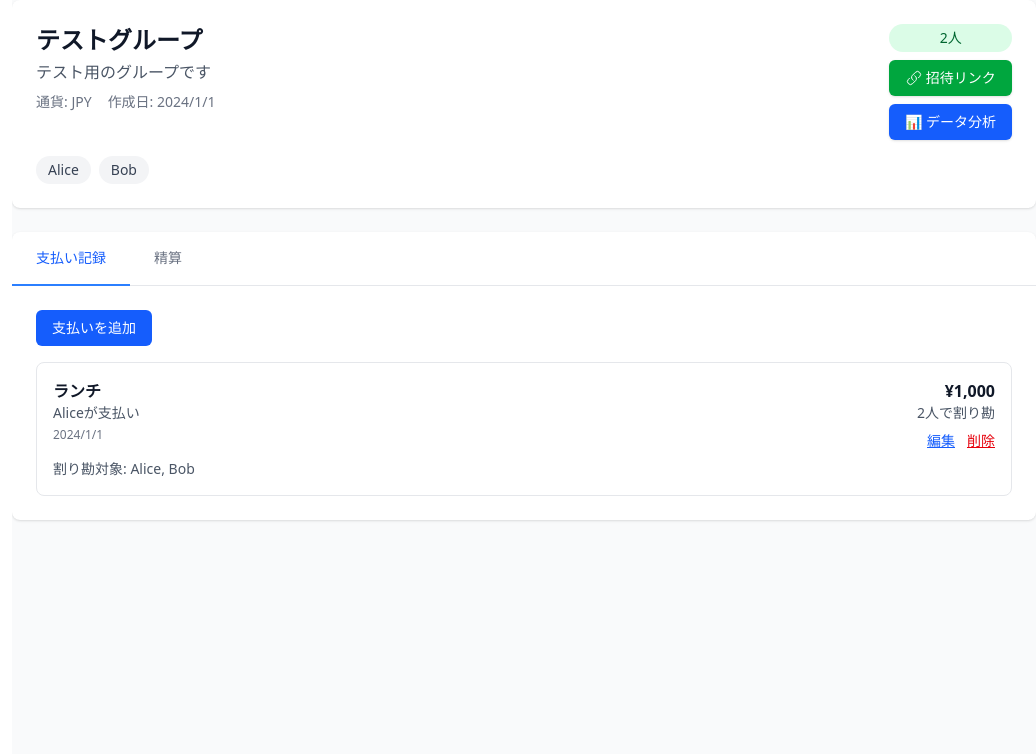
Test: GroupPage › 精算タブに切り替えて精算結果を表示する
Expected: the heading "テストグループ" is shown, [36,23,203,56]
精算タブをクリック
Click the tab "精算".
click(168, 259)  # box [130,232,206,286]
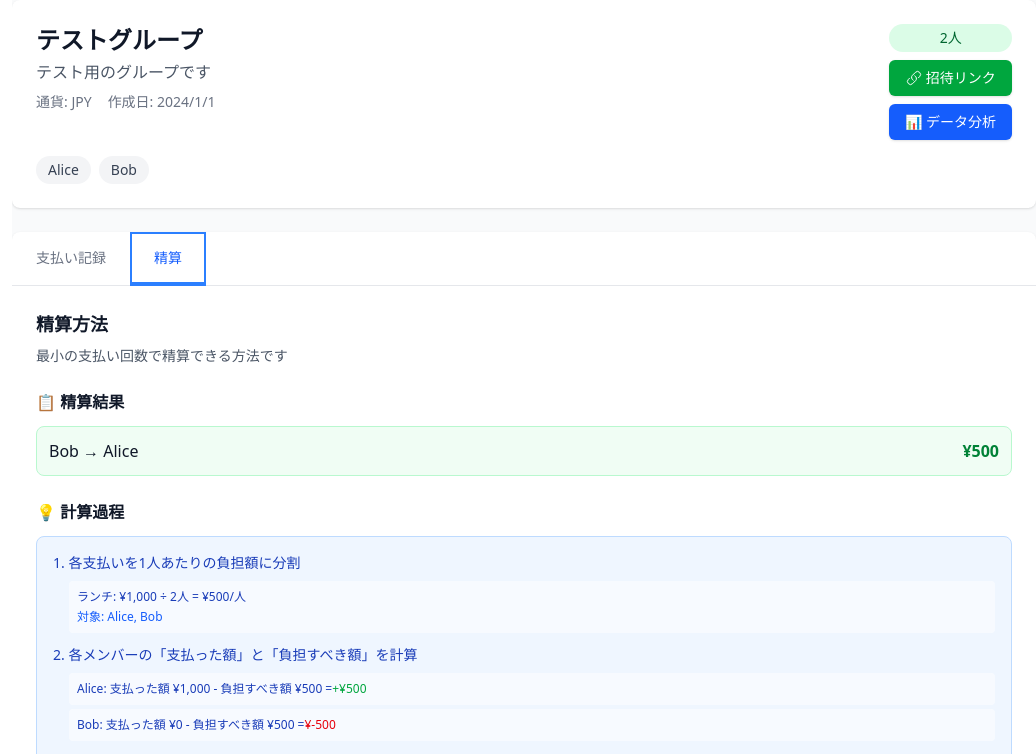
Now the heading "精算方法" is shown, box [36,312,108,336]
Now the text "最小の支払い回数で精算できる方法です" is shown, box [36,346,288,365]
Now the text "Bob → Alice" is shown, box [49,439,138,463]
